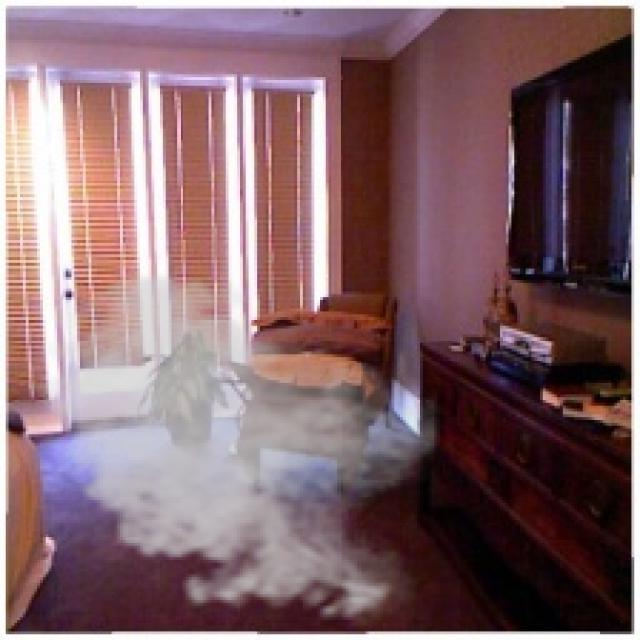smoke: (26, 266, 440, 631)
